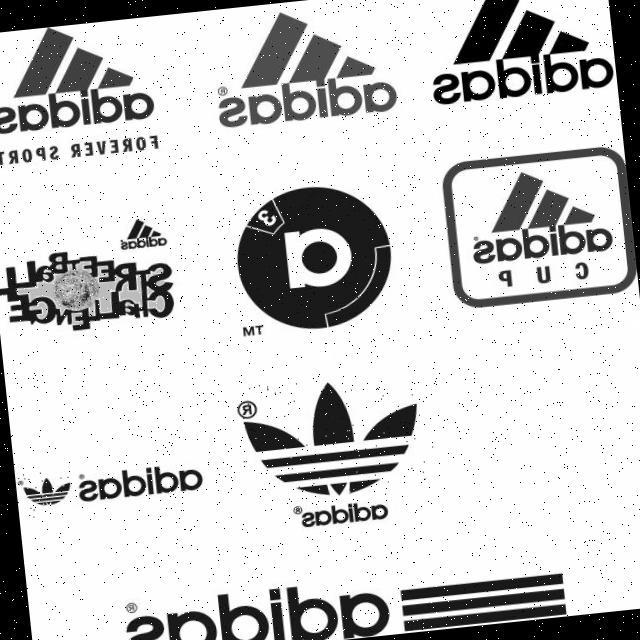Adidas: (232, 367, 439, 509), (15, 469, 76, 518)
